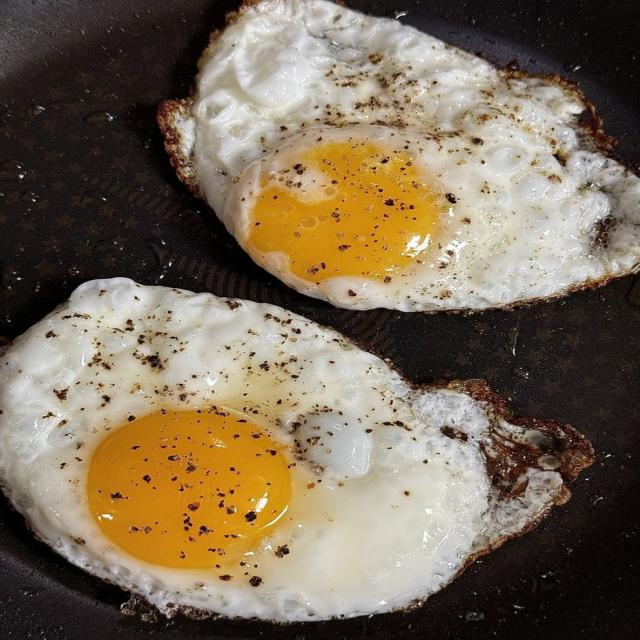fryed egg: (0, 279, 592, 621), (160, 0, 639, 310)
